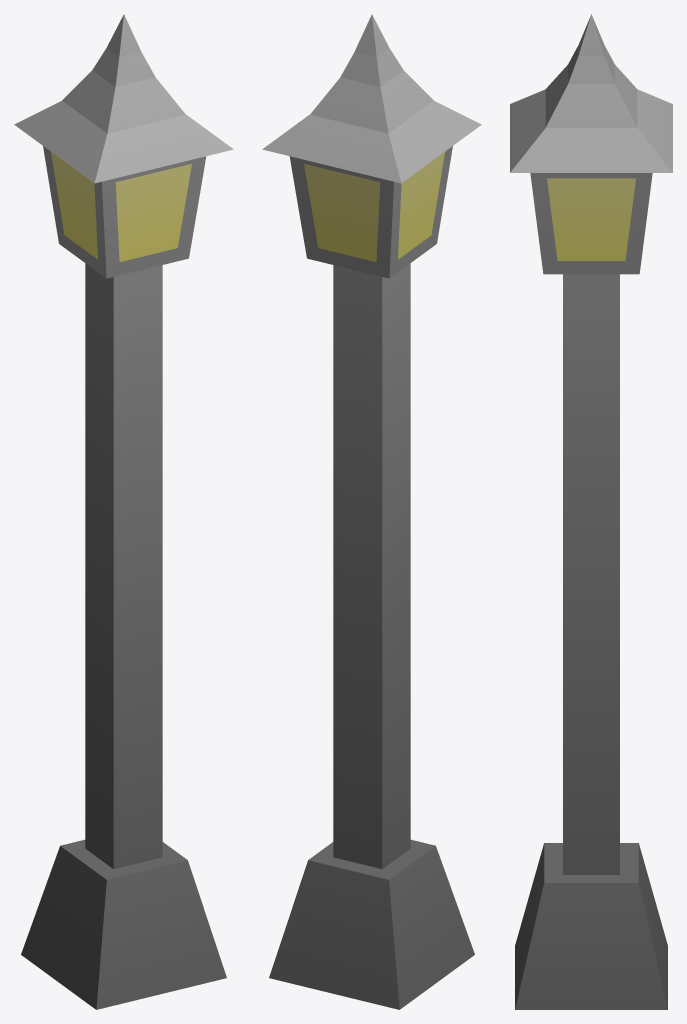
The model's file is lamppost.fbx.
The picture shows the model from 3 angles, left to right: view 1: azimuth 30°, elevation 25°; view 2: azimuth 150°, elevation 25°; view 3: azimuth 270°, elevation 25°; orthographic projection.
Parts seen in each view (by area): view 1: lamppost; view 2: lamppost; view 3: lamppost.
Boxes of the visible parts, x1,y1,x2,y2 form: lamppost: [14, 14, 233, 1009]; lamppost: [262, 14, 481, 1009]; lamppost: [510, 14, 672, 1009].
Bounding box in the file's own units: 50.5 × 330 × 50.5.
